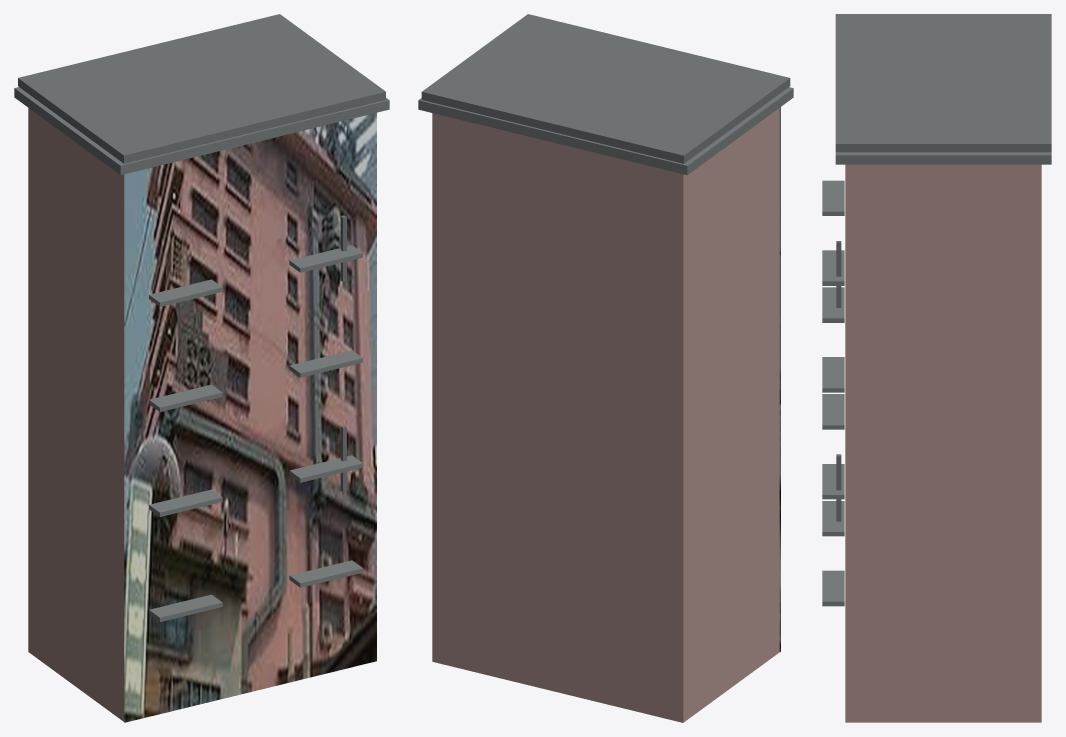
File: pink_midrise.glb
The picture shows the model from 3 angles, left to right: view 1: azimuth 30°, elevation 25°; view 2: azimuth 150°, elevation 25°; view 3: azimuth 270°, elevation 25°; orthographic projection.
Parts seen in each view (by area): view 1: photographic_facade, shell, metal_roof, roof_parapet, ledge_1_-2.5, ledge_3_2.5, ledge_1_2.5, ledge_2_-2.5, ledge_3_-2.5, ledge_4_-2.5, ledge_2_2.5, ledge_4_2.5; view 2: shell, metal_roof, roof_parapet, photographic_facade; view 3: shell, metal_roof, roof_parapet, ledge_1_2.5, ledge_2_-2.5, ledge_3_2.5, ledge_4_-2.5, ledge_1_-2.5, ledge_3_-2.5, ledge_2_2.5, ledge_4_2.5.
Boxes of the visible parts, left/top/right/bottom form: photographic_facade: left=124, top=112, right=376, bottom=722; shell: left=28, top=108, right=124, bottom=721; metal_roof: left=18, top=14, right=385, bottom=163; roof_parapet: left=14, top=87, right=389, bottom=174; ledge_1_-2.5: left=149, top=594, right=222, bottom=621; ledge_3_2.5: left=289, top=350, right=362, bottom=377; ledge_1_2.5: left=289, top=560, right=362, bottom=587; ledge_2_-2.5: left=149, top=489, right=222, bottom=516; ledge_3_-2.5: left=149, top=384, right=222, bottom=411; ledge_4_-2.5: left=149, top=279, right=222, bottom=306; ledge_2_2.5: left=289, top=455, right=362, bottom=482; ledge_4_2.5: left=289, top=245, right=362, bottom=272; shell: left=432, top=108, right=779, bottom=722; metal_roof: left=421, top=14, right=790, bottom=163; roof_parapet: left=418, top=87, right=793, bottom=175; photographic_facade: left=779, top=107, right=780, bottom=652; shell: left=845, top=164, right=1041, bottom=722; metal_roof: left=835, top=14, right=1051, bottom=152; roof_parapet: left=835, top=152, right=1051, bottom=164; ledge_1_2.5: left=822, top=570, right=844, bottom=606; ledge_2_-2.5: left=822, top=394, right=844, bottom=429; ledge_3_2.5: left=822, top=357, right=844, bottom=392; ledge_4_-2.5: left=822, top=180, right=844, bottom=215; ledge_1_-2.5: left=822, top=501, right=844, bottom=536; ledge_3_-2.5: left=822, top=287, right=844, bottom=322; ledge_2_2.5: left=822, top=464, right=844, bottom=499; ledge_4_2.5: left=822, top=250, right=844, bottom=285.
Bounding box in the file's own units: 9.65 × 19.6 × 7.
Materials: 1 (1 with a texture image).
